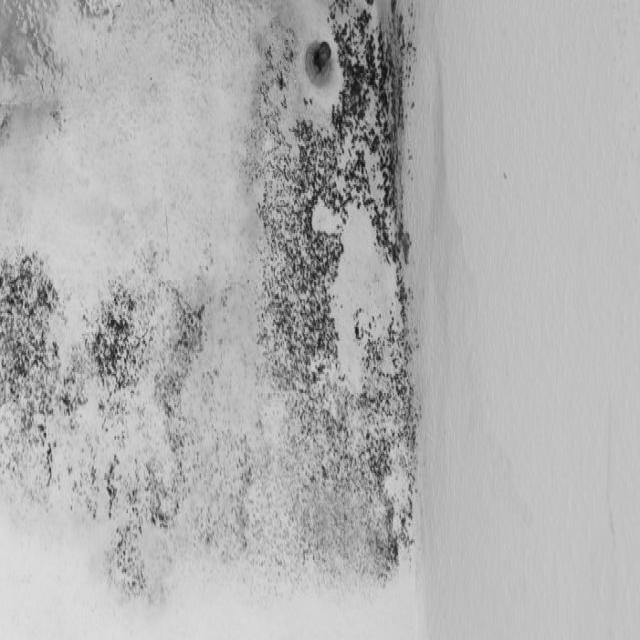stain marks: (0, 1, 524, 640)
